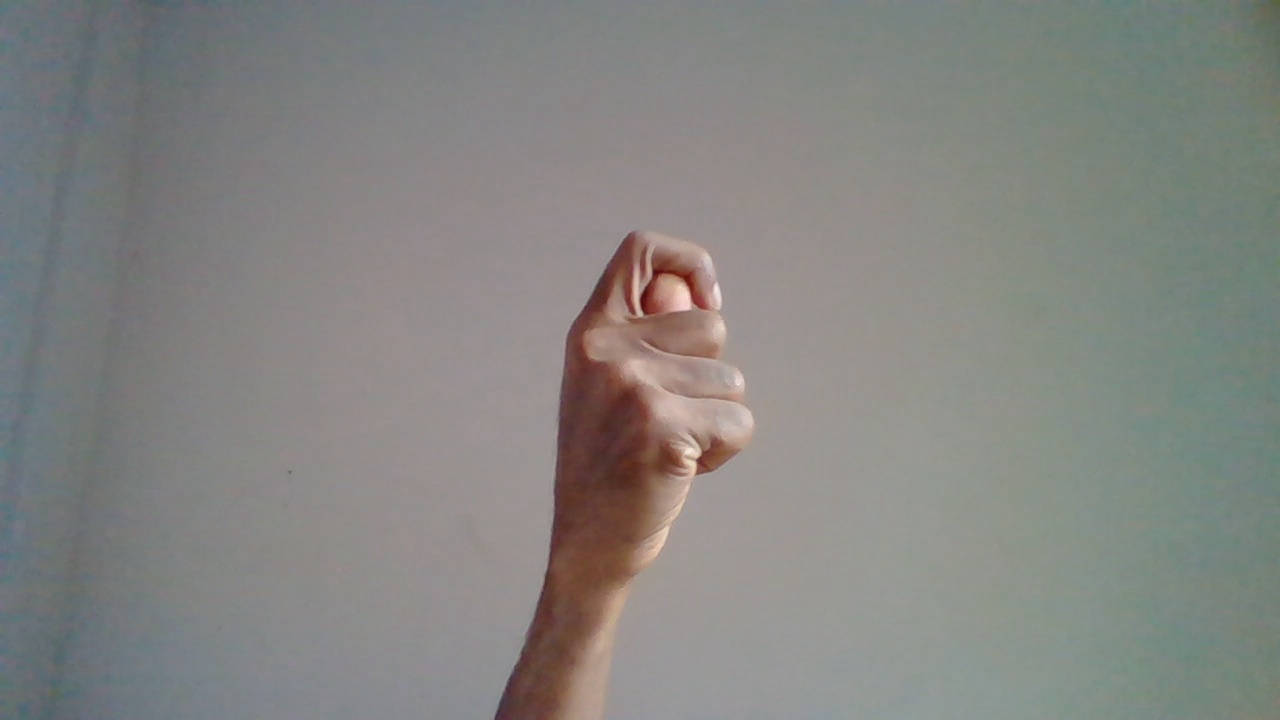che: (546, 227, 755, 675)
